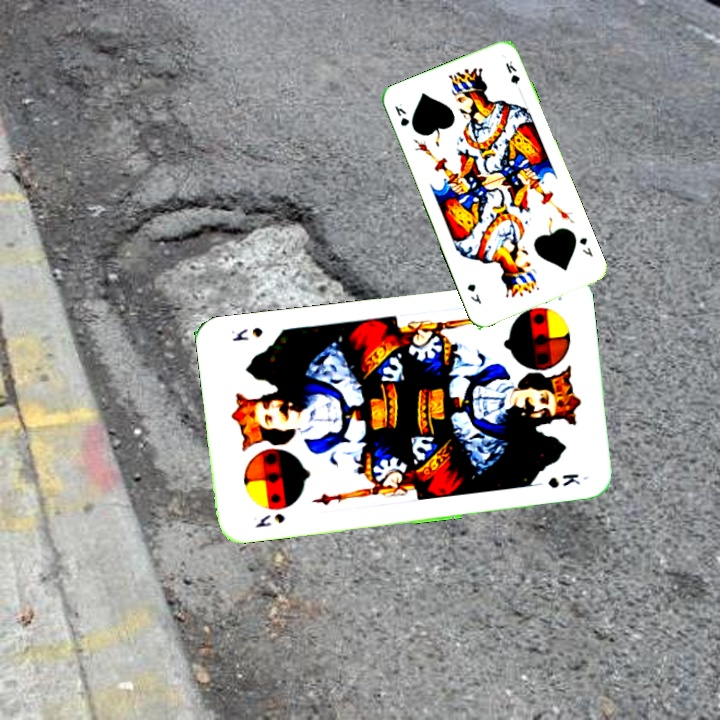GK: (390, 100, 412, 129), (575, 233, 596, 260)
SK: (251, 509, 287, 530)
